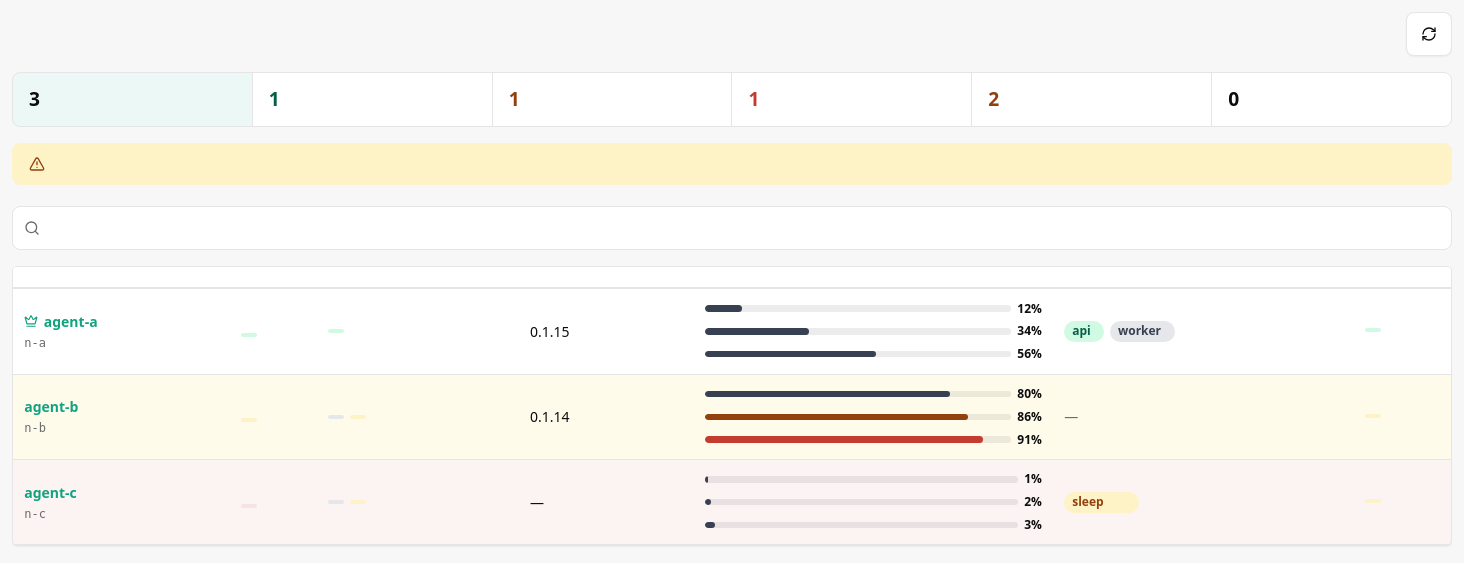
NodesPage cluster summary › filters by hostname search
The image size is (1464, 563).
Type "agent-b" into the search field named "search" at point(732, 228), box [12, 206, 1452, 250]
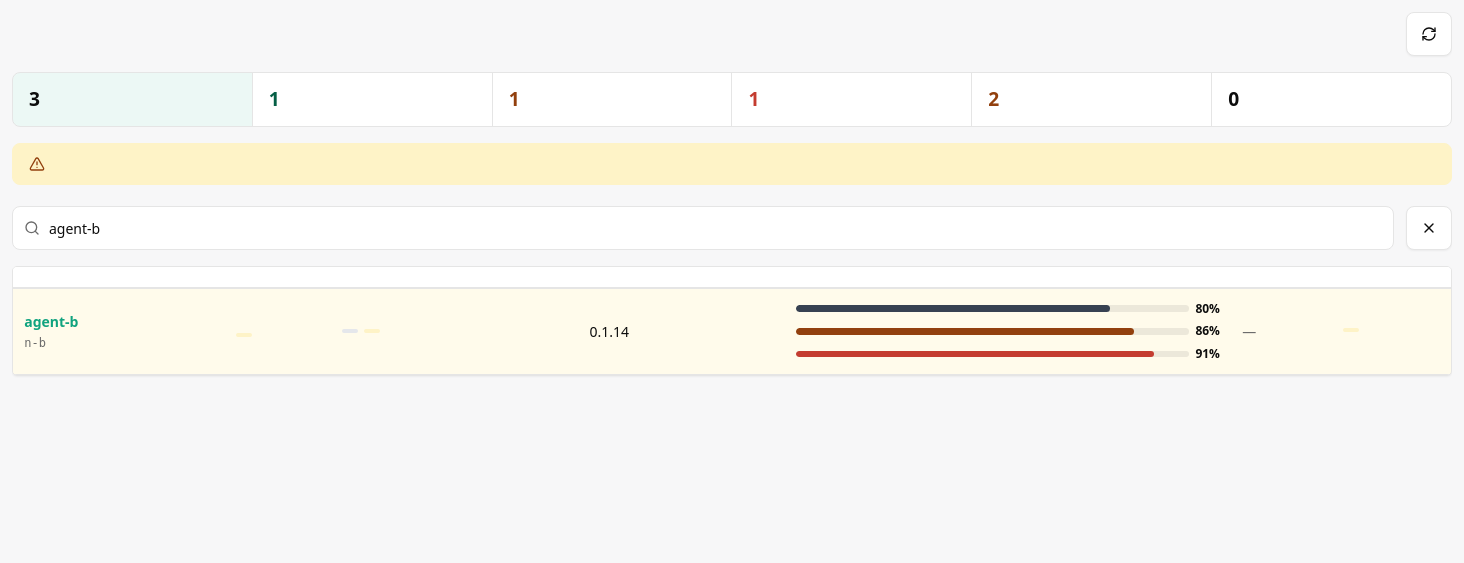
Expected: the row with class "data-row" shows "agent-b", [24, 311, 78, 332]
Expected: the number of rows with class "data-row" is 1, [13, 289, 1451, 374]
Expected: the link with class "data-row" no longer shows "agent-a"
